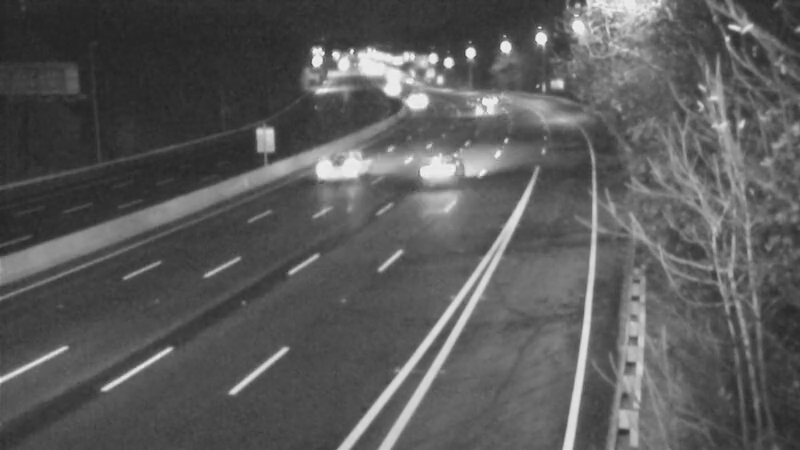vehicle: (402, 130, 482, 210), (297, 127, 377, 207), (364, 65, 414, 115), (390, 76, 440, 126), (461, 72, 511, 122), (455, 89, 505, 139)
